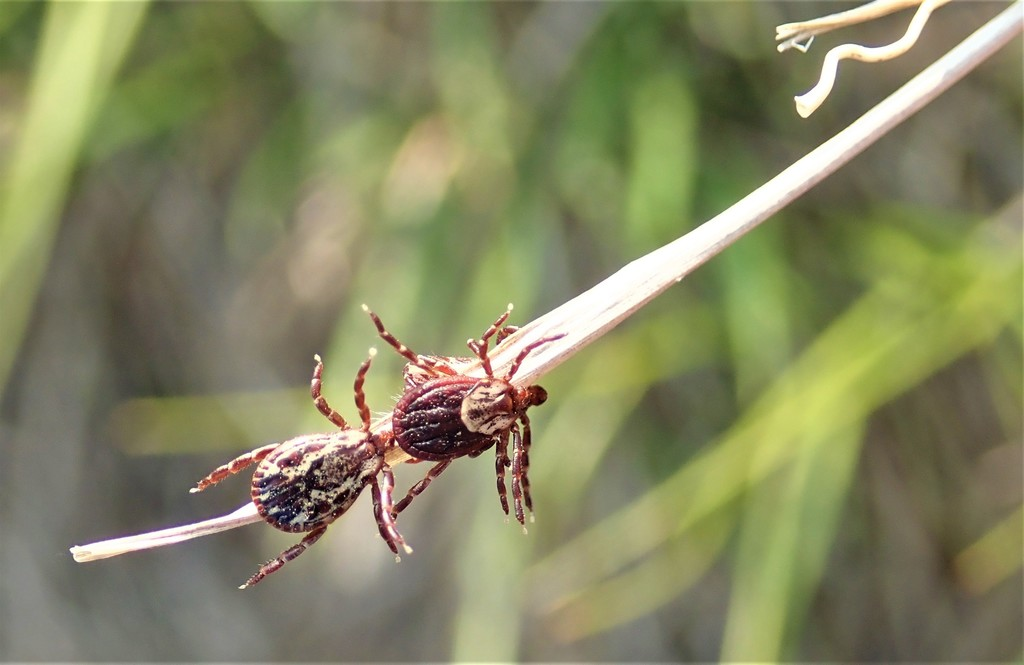garrapata: (184, 345, 410, 602), (383, 299, 597, 536)
